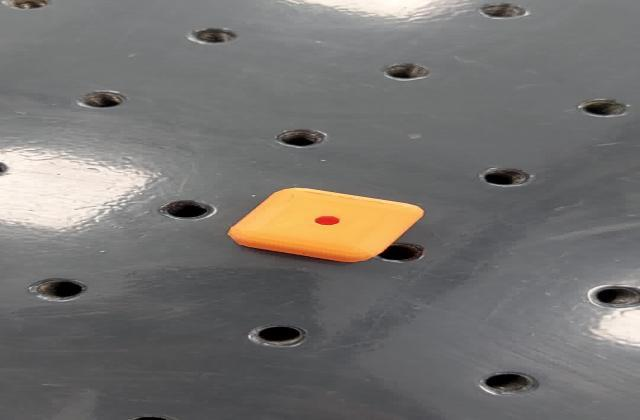cube: (226, 184, 427, 264)
